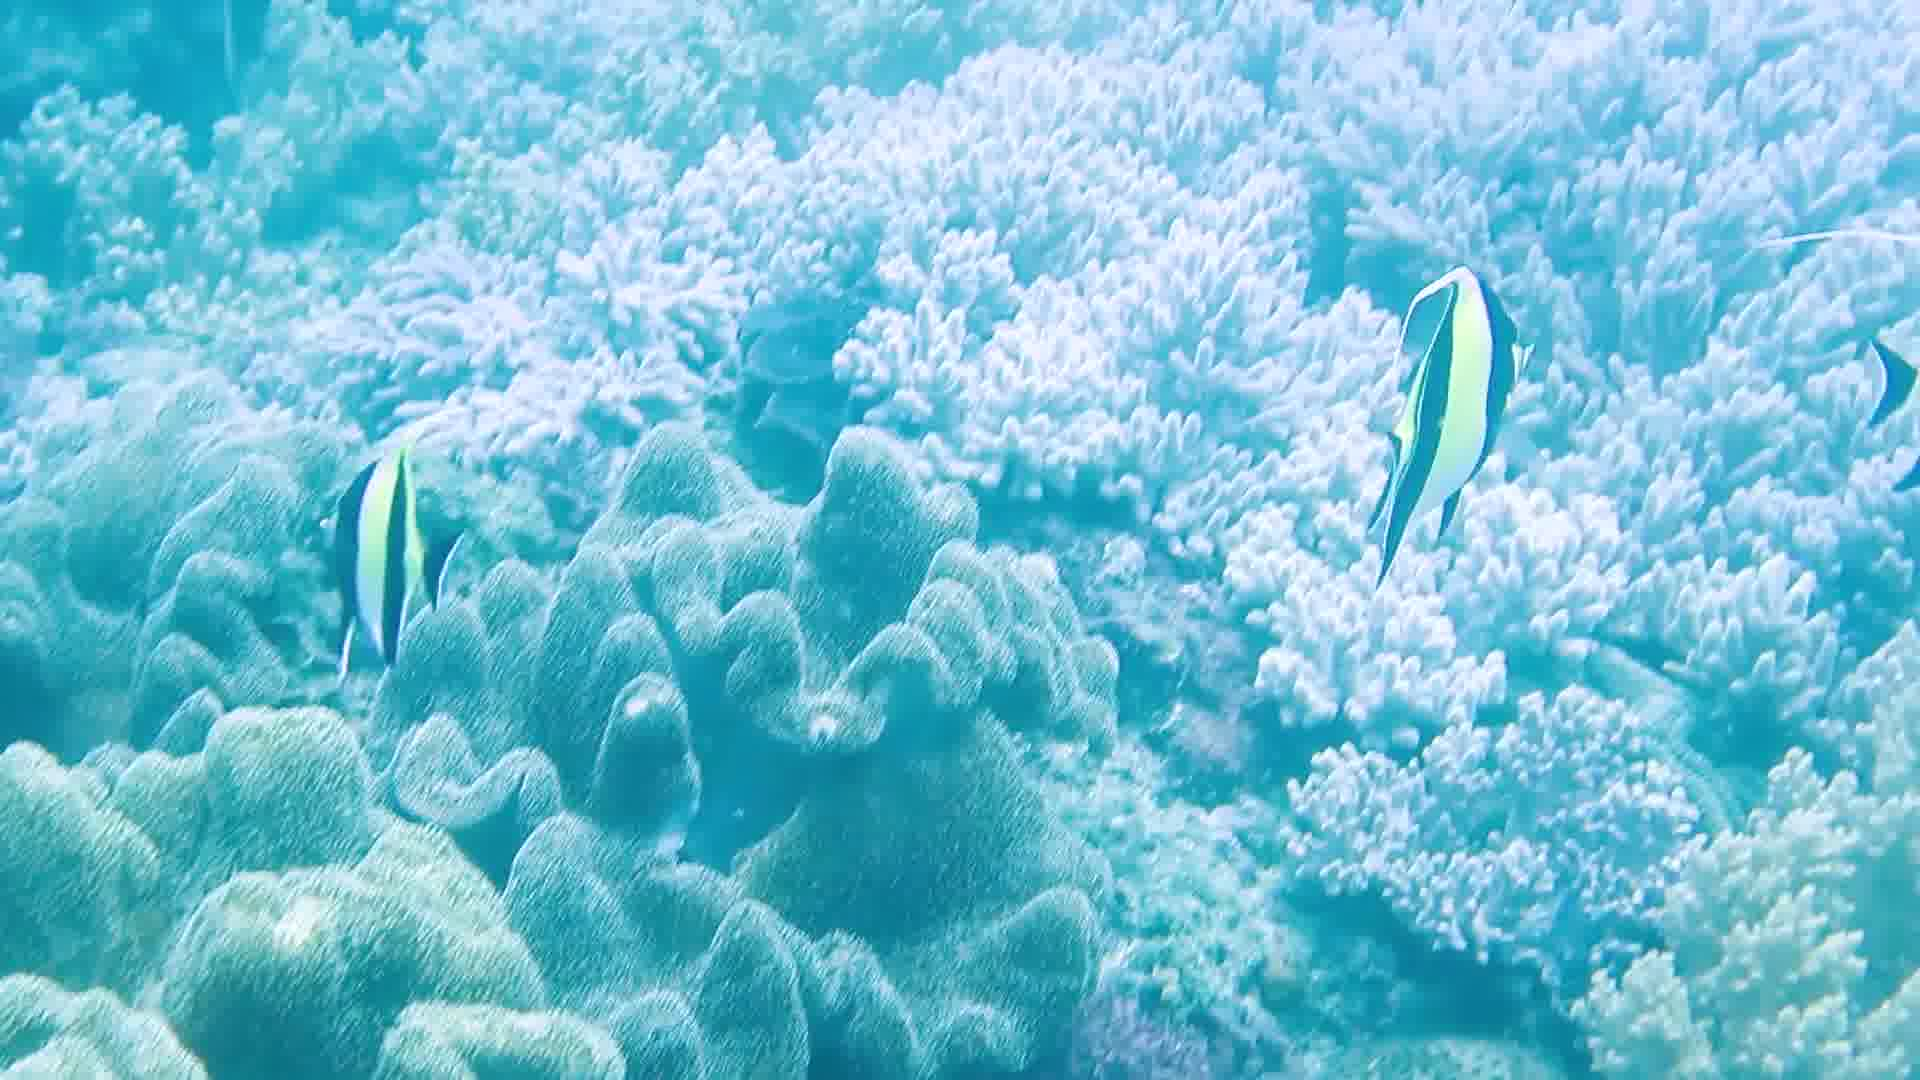Zanclus cornutus: (1338, 207, 1542, 571), (272, 435, 491, 659)
